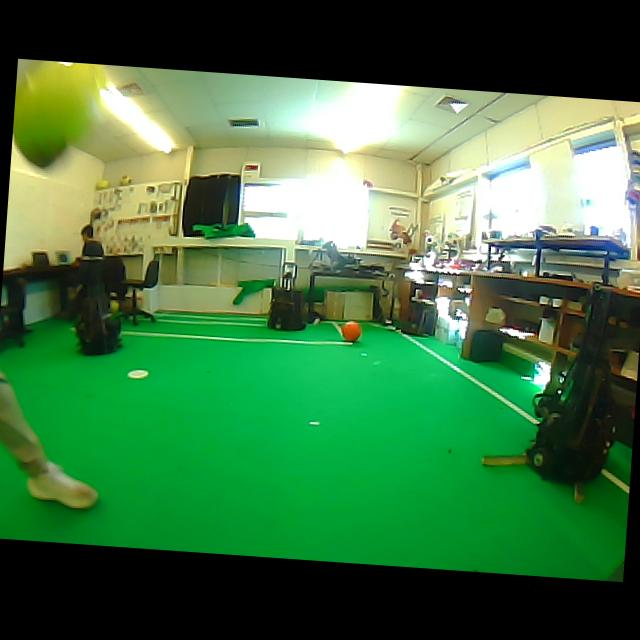ball: (14, 61, 104, 166), (341, 320, 361, 341), (95, 178, 109, 189), (109, 299, 118, 311), (119, 176, 130, 185)
robot: (528, 290, 612, 482), (75, 294, 122, 354), (267, 262, 305, 330)
